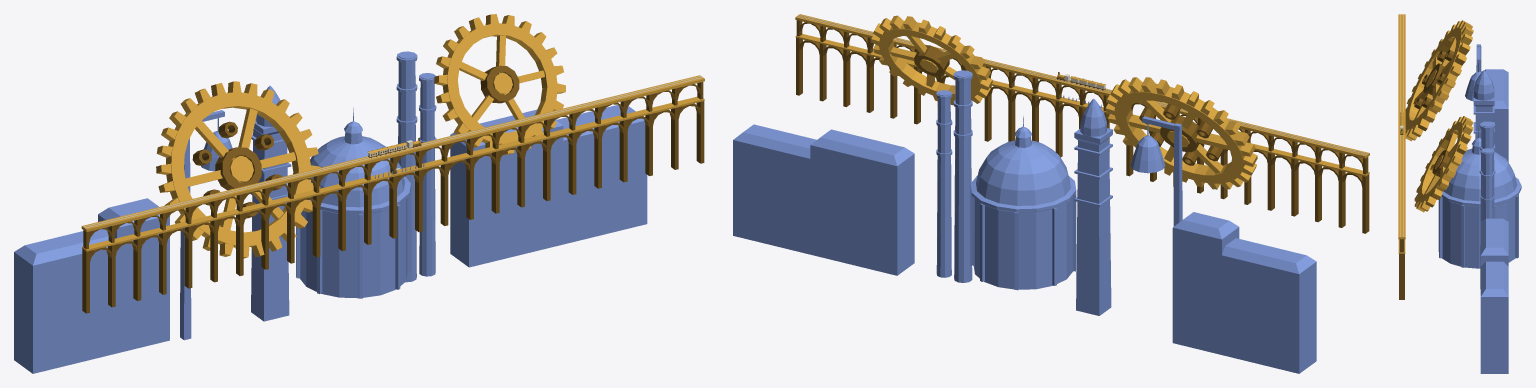
File: distant_engine.glb
3 renders of one model, left to right at view 1: azimuth 30°, elevation 25°; view 2: azimuth 150°, elevation 25°; view 3: azimuth 270°, elevation 25°, orthographic. The views are drawn at different scales.
Parts seen in each view (by area): view 1: distant_engine_body, distant_engine_gear_a, distant_engine_gear_b; view 2: distant_engine_body, distant_engine_gear_a, distant_engine_gear_b; view 3: distant_engine_body, distant_engine_gear_a, distant_engine_gear_b.
Part boxes in pixels (x1,y1,x2,y2): distant_engine_body: (14,51,704,373); distant_engine_gear_a: (156,81,320,258); distant_engine_gear_b: (434,14,565,154); distant_engine_body: (733,14,1369,373); distant_engine_gear_a: (1105,77,1257,189); distant_engine_gear_b: (871,15,992,105); distant_engine_body: (1398,14,1521,373); distant_engine_gear_a: (1405,20,1473,141); distant_engine_gear_b: (1414,116,1473,212).
Bounding box in the file's own units: 30.2 × 12 × 7.06.
